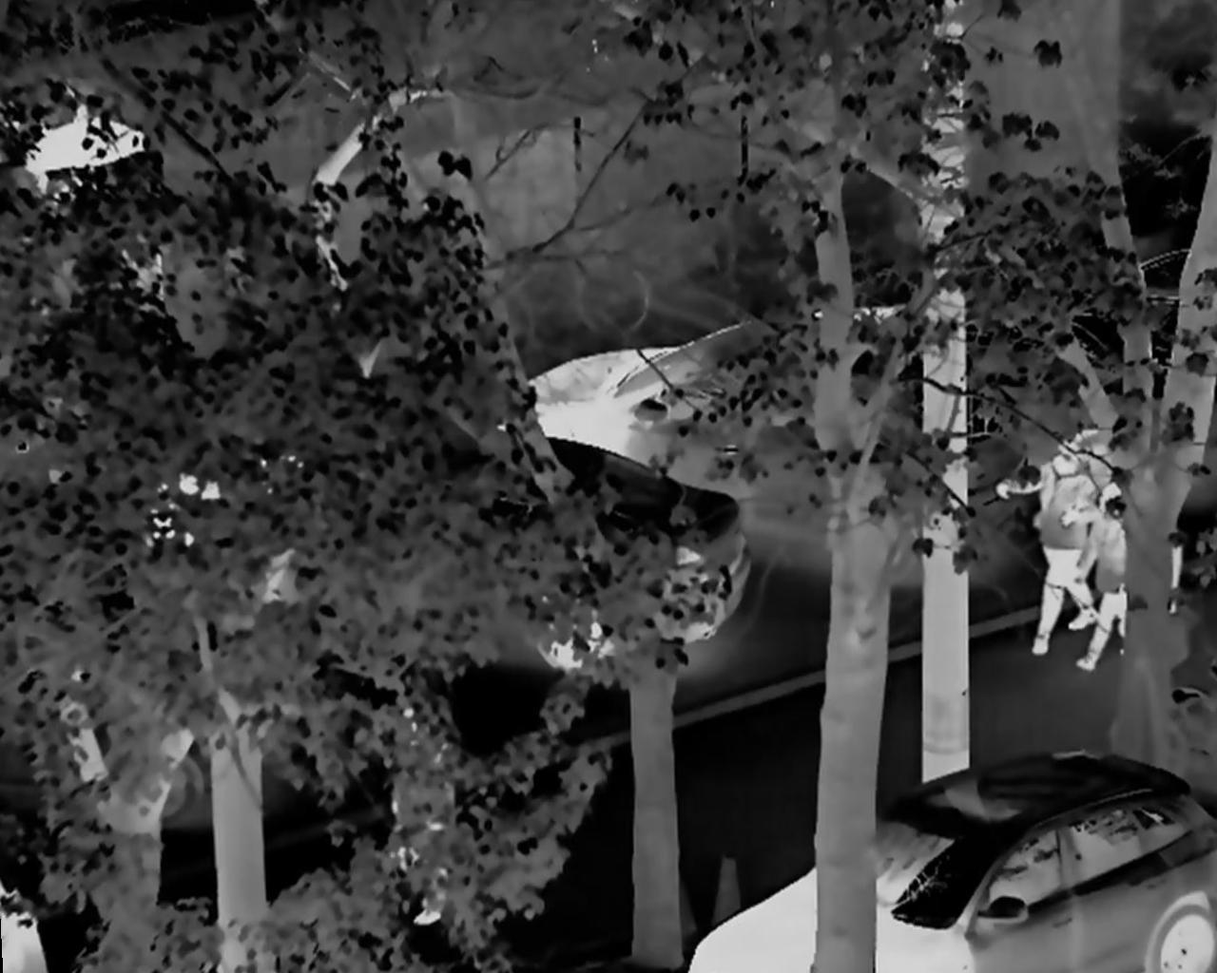person: (1021, 426, 1094, 649), (1086, 470, 1141, 667)
